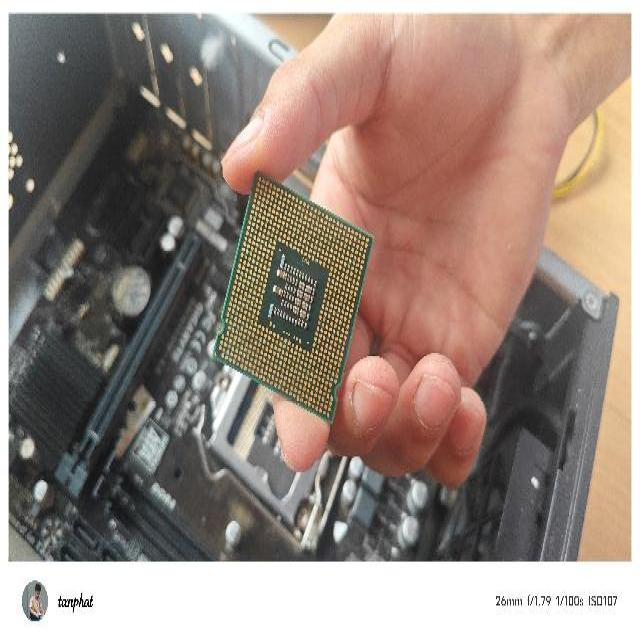CPU: (212, 167, 376, 426)
